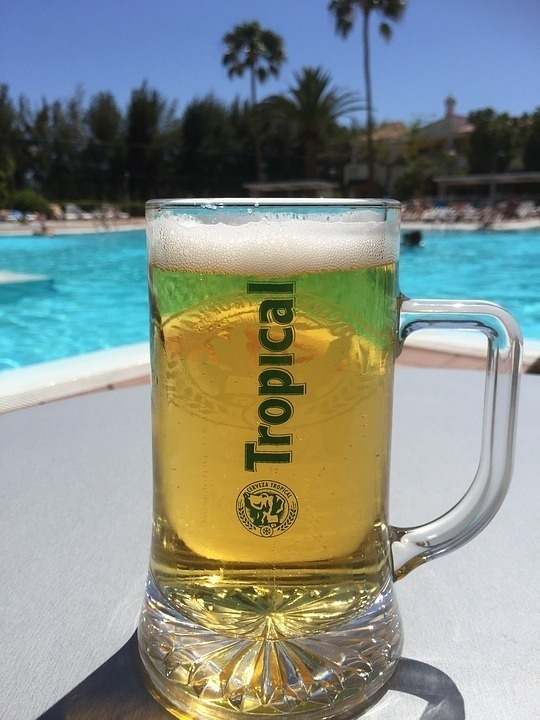whiskey: (114, 186, 403, 706)
